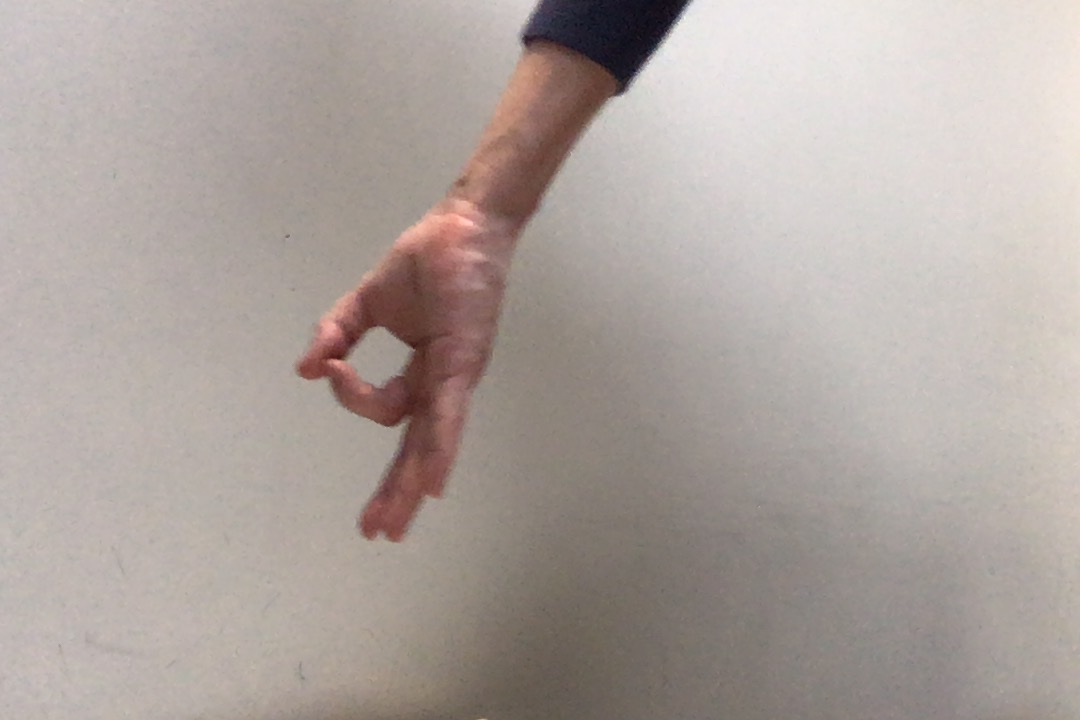oksign: (290, 203, 513, 549)
